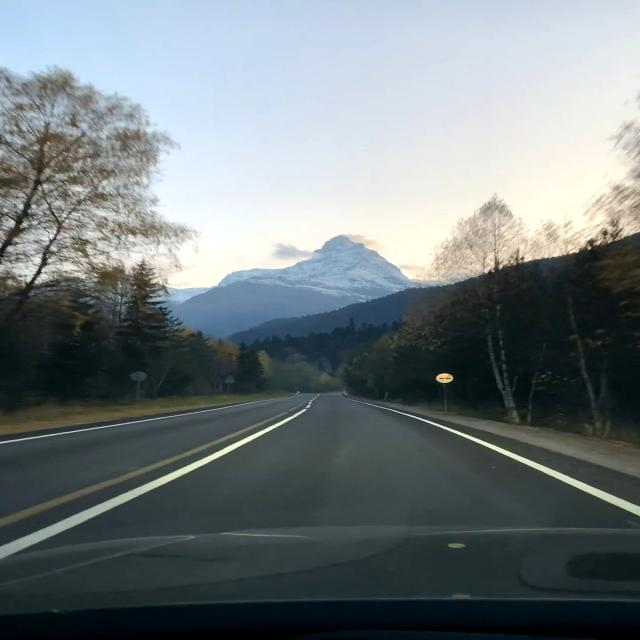road: (0, 395, 638, 640)
